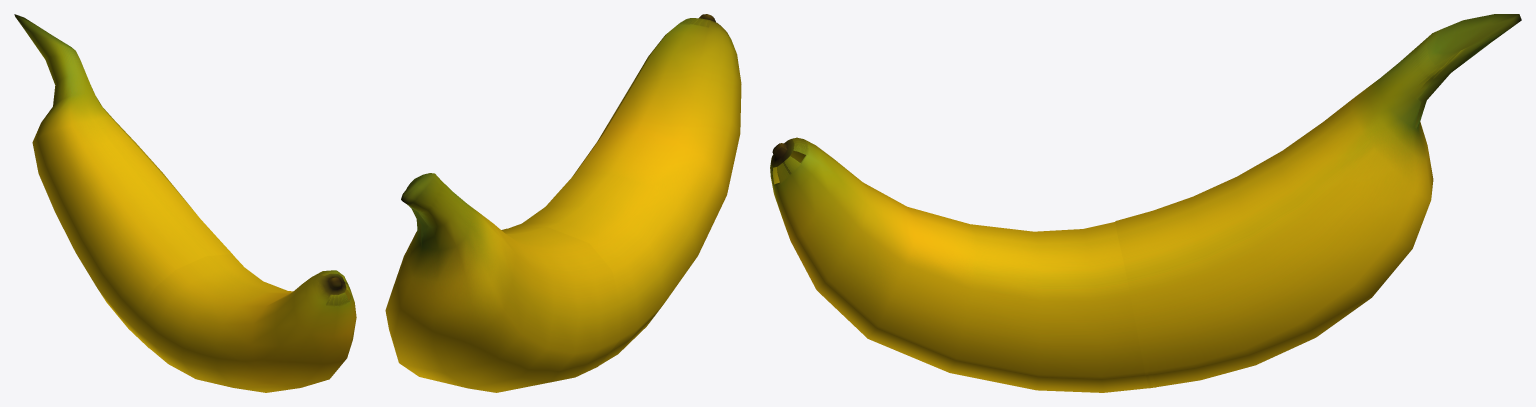
The model's file is банануля.fbx.
3 views of the same model, side by side, from view 1: azimuth 30°, elevation 25°; view 2: azimuth 150°, elevation 25°; view 3: azimuth 270°, elevation 25° (orthographic). The views are drawn at different scales.
Parts seen in each view (by area): view 1: правая часть; view 2: правая часть; view 3: правая часть.
Boxes of the visible parts, x1,y1,x2,y2 form: правая часть: (14, 14, 356, 392); правая часть: (385, 14, 741, 392); правая часть: (770, 14, 1521, 392).
Bounding box in the file's own units: 16.6 × 35.56 × 72.22.
Materials: 1 (1 with a texture image).
